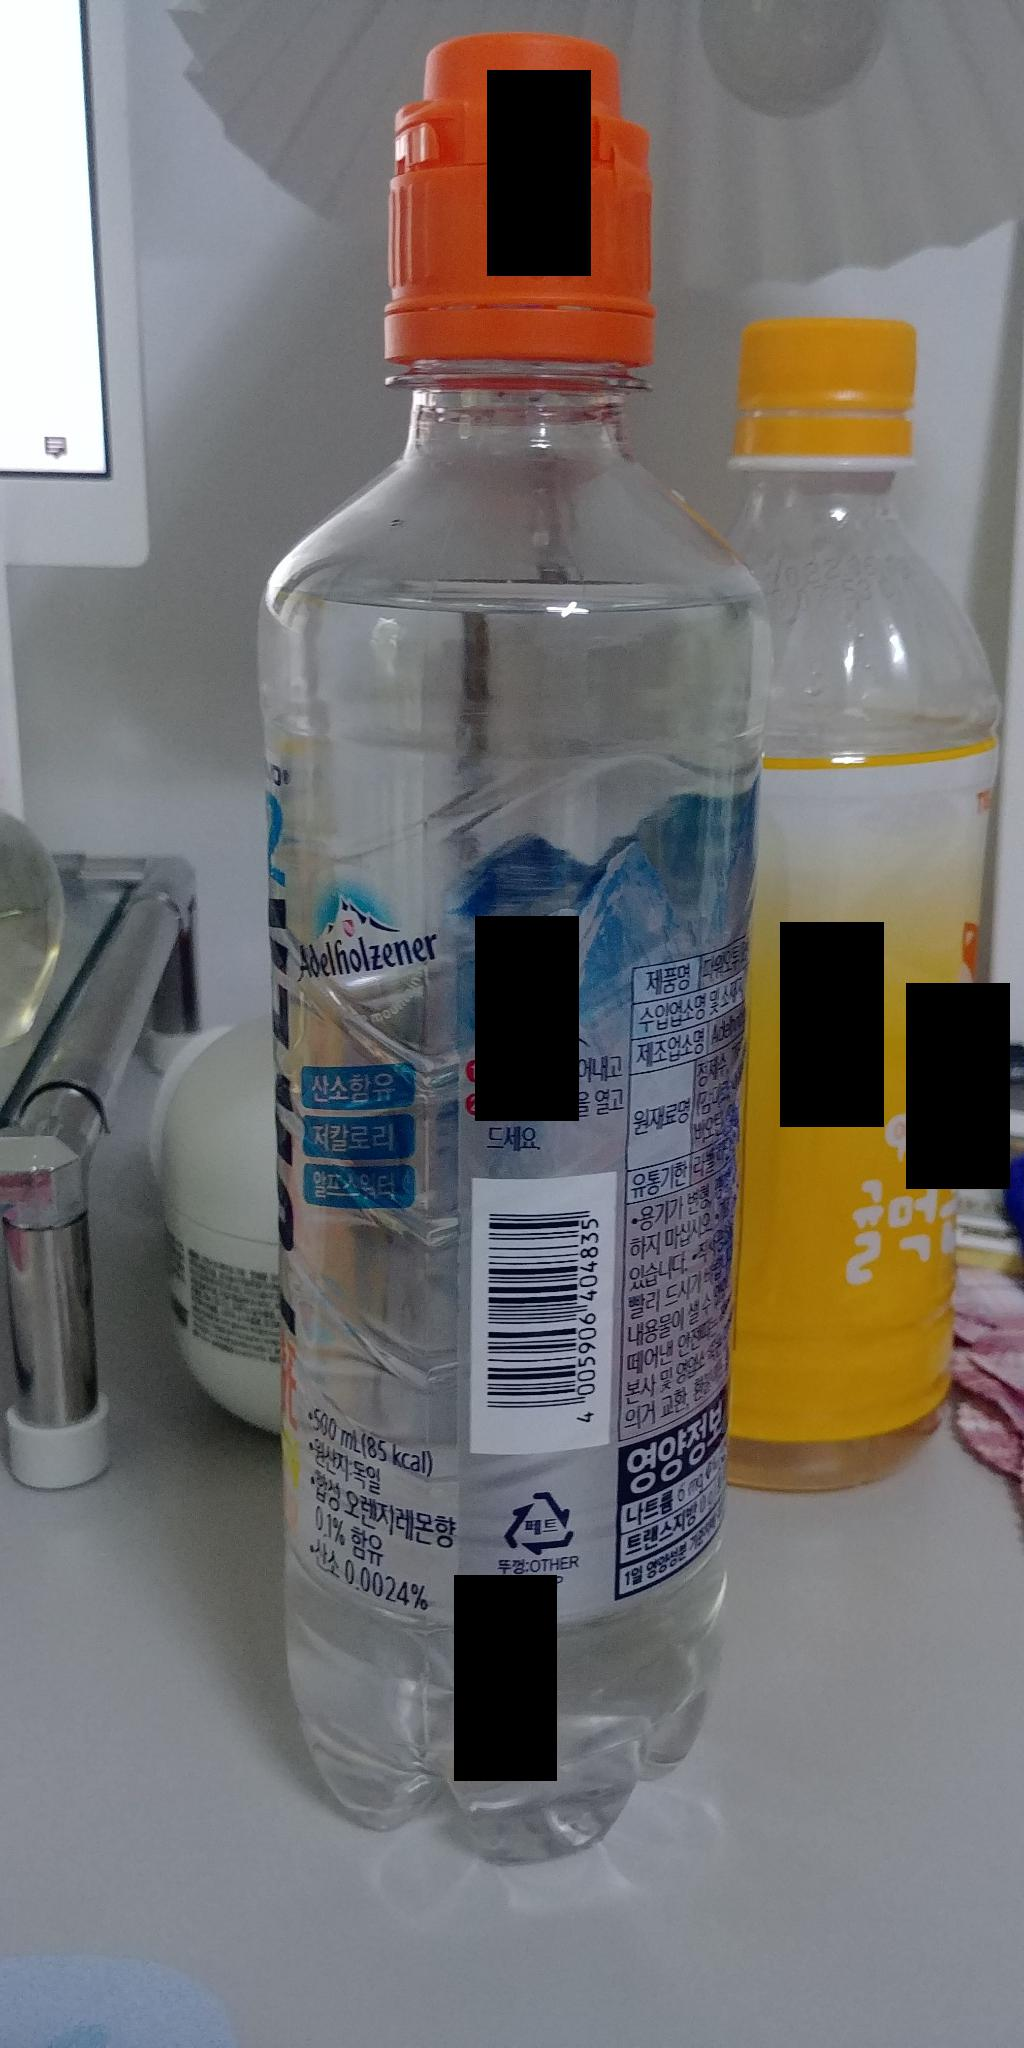powerO2_orange: (218, 0, 734, 1893)
